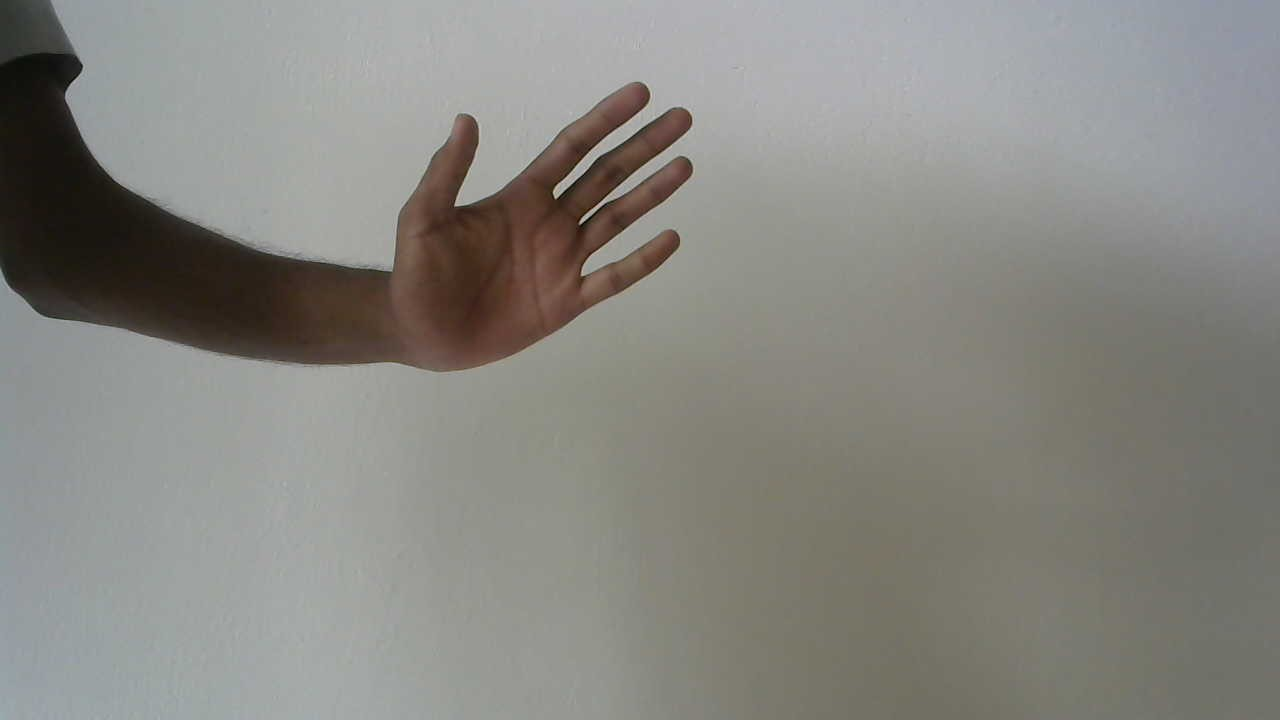hello: (385, 77, 700, 382)
